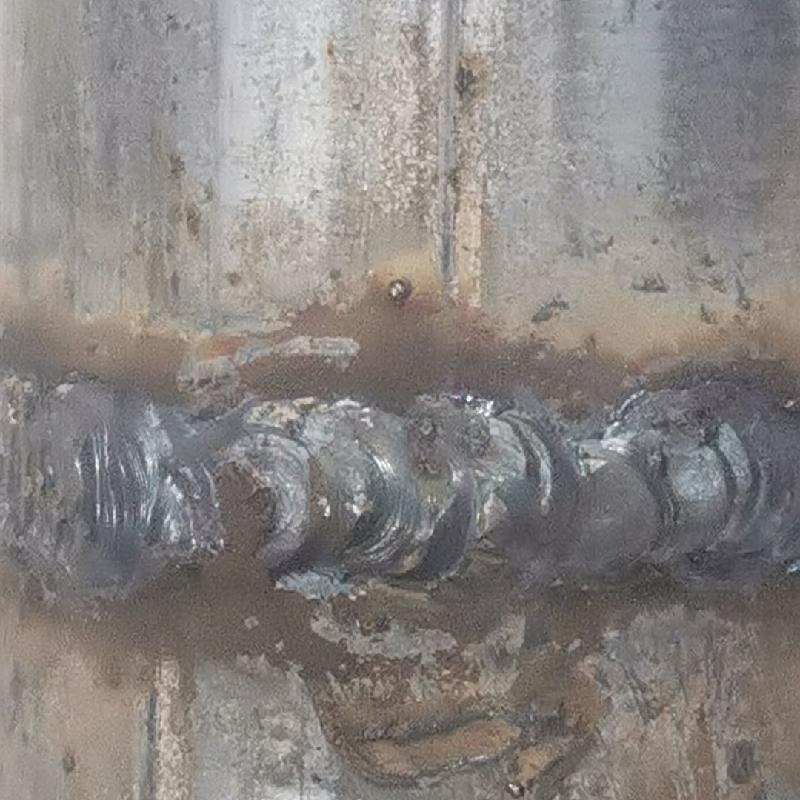good: (1, 345, 799, 580)
